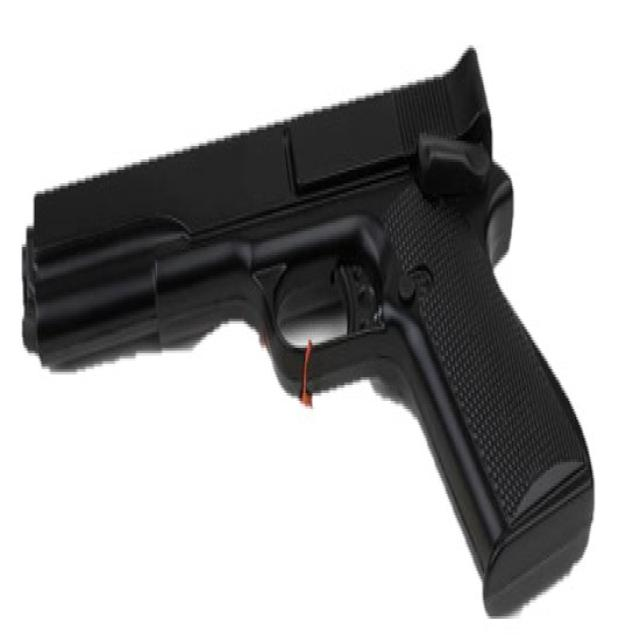pistol: (19, 37, 597, 634)
